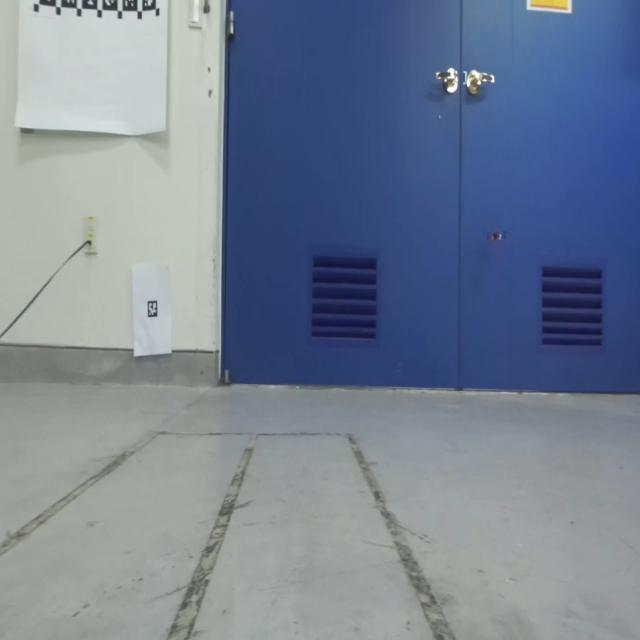crazyflie: (484, 222, 510, 251)
